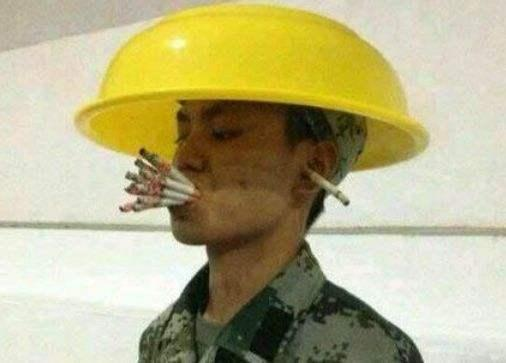Cigarette: (142, 149, 192, 187), (312, 174, 348, 205), (117, 194, 182, 210), (156, 176, 198, 196)
